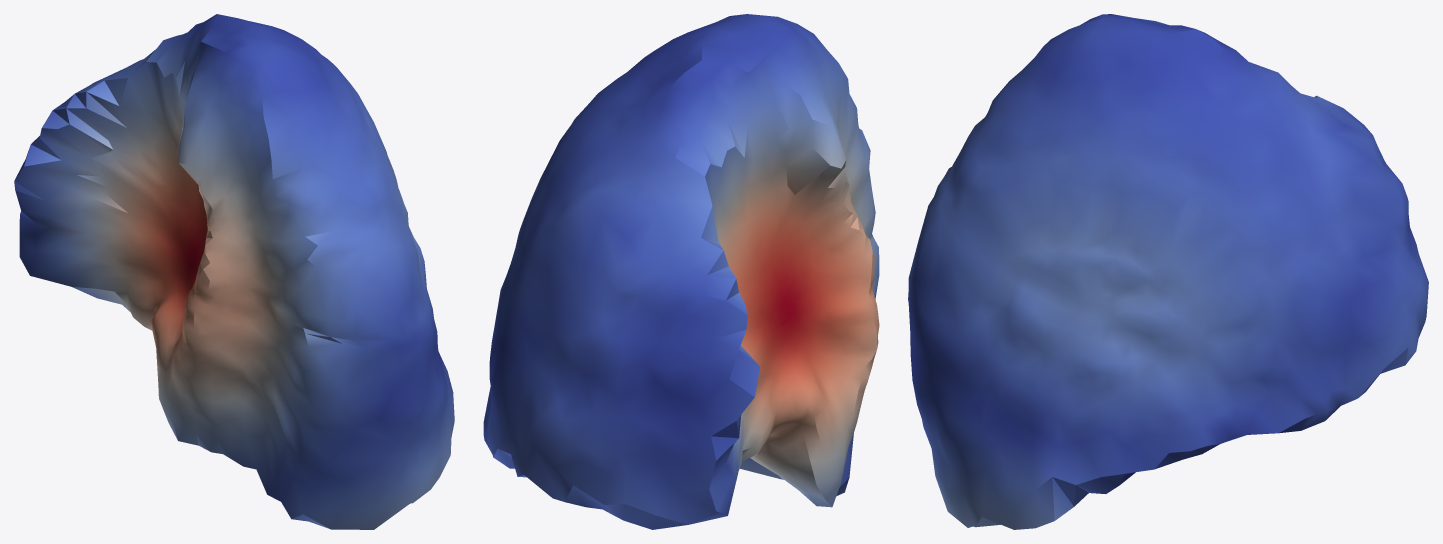
The model's file is lung_nonflipped.glb.
3 views of the same model, side by side, from view 1: azimuth 30°, elevation 25°; view 2: azimuth 150°, elevation 25°; view 3: azimuth 270°, elevation 25° (orthographic). The views are drawn at different scales.
Parts seen in each view (by area): view 1: lung_fine_nonflipped; view 2: lung_fine_nonflipped; view 3: lung_fine_nonflipped.
Part boxes in pixels (left/top/right/bottom): lung_fine_nonflipped: left=14, top=14, right=454, bottom=529; lung_fine_nonflipped: left=483, top=14, right=879, bottom=529; lung_fine_nonflipped: left=908, top=14, right=1428, bottom=529.
Bounding box in the file's own units: 14.23 × 21.04 × 20.92.
